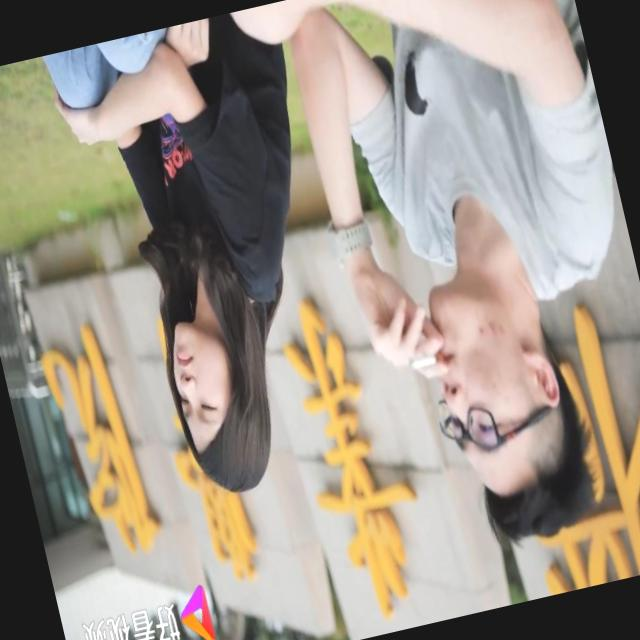cigarette: (398, 340, 448, 382)
